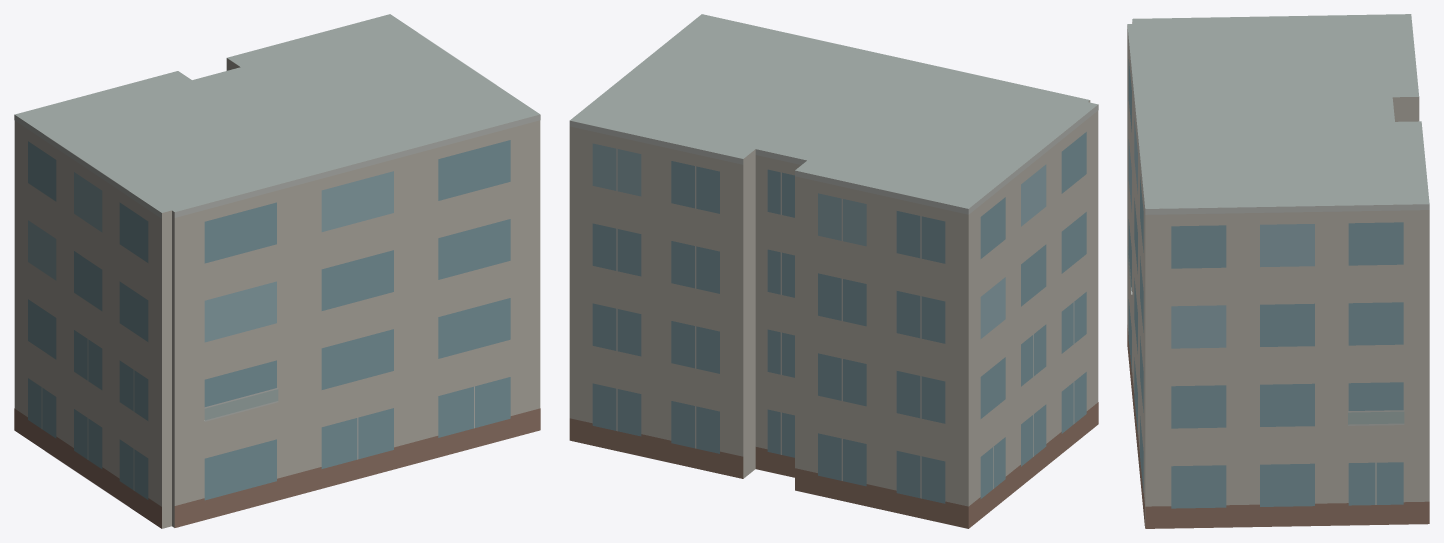
File: survey-upis-32732770.glb
The picture shows the model from 3 angles, left to right: view 1: azimuth 30°, elevation 25°; view 2: azimuth 150°, elevation 25°; view 3: azimuth 270°, elevation 25°; orthographic projection.
Visible parts, largest first — view 1: survey-upis-32732770.tmp; view 2: survey-upis-32732770.tmp; view 3: survey-upis-32732770.tmp.
Boxes of the visible parts, box(x1,y1,x2,y2) form: survey-upis-32732770.tmp: box(14, 14, 540, 528); survey-upis-32732770.tmp: box(569, 14, 1098, 528); survey-upis-32732770.tmp: box(1127, 14, 1429, 528).
Bounding box in the file's own units: 17.53 × 13.4 × 11.49.
